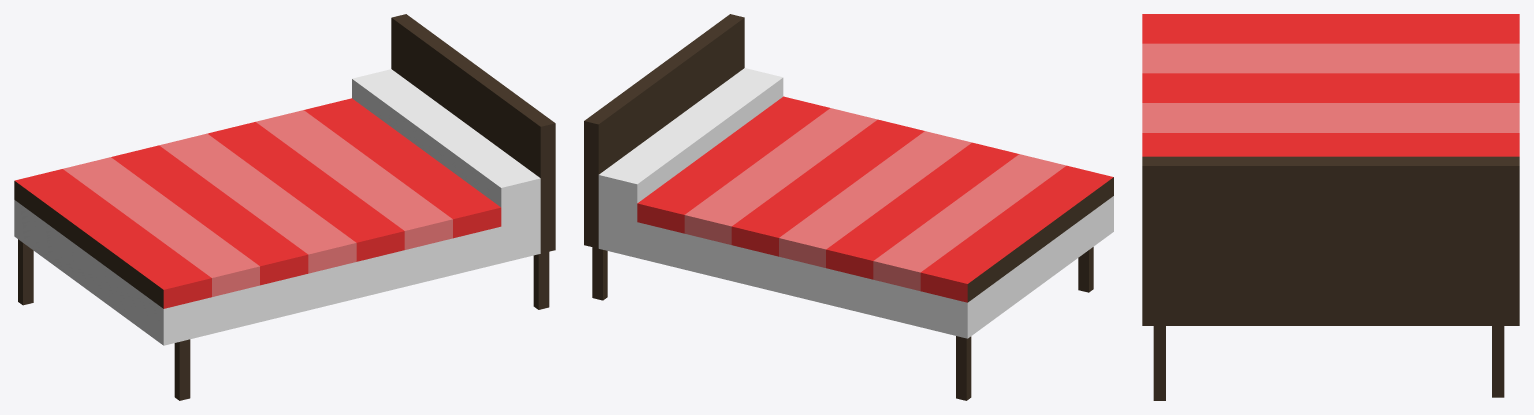
File: bed.fbx
The picture shows the model from 3 angles, left to right: view 1: azimuth 30°, elevation 25°; view 2: azimuth 150°, elevation 25°; view 3: azimuth 270°, elevation 25°; orthographic projection. The views are drawn at different scales.
Visible parts, largest first — view 1: Cube.004; view 2: Cube.004; view 3: Cube.004.
Part boxes in pixels (left/top/right/bottom): Cube.004: left=14, top=14, right=555, bottom=400; Cube.004: left=584, top=14, right=1113, bottom=400; Cube.004: left=1142, top=14, right=1519, bottom=400.
Bounding box in the file's own units: 2230 × 1044 × 1472.
